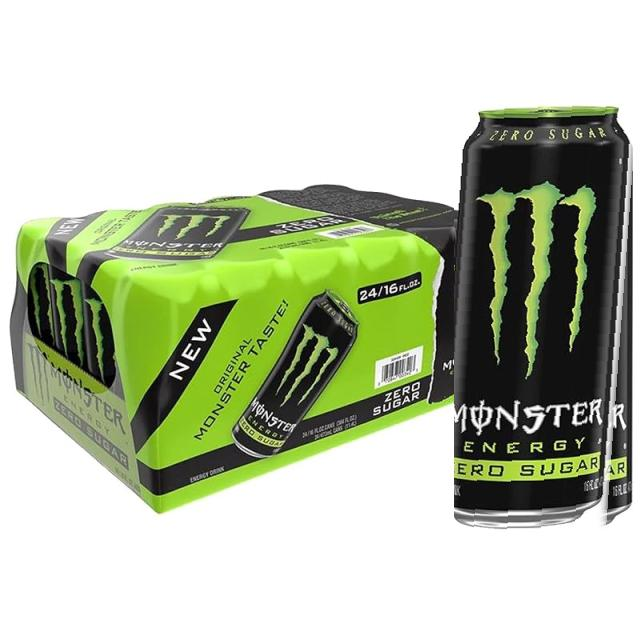Cans: (454, 102, 638, 547), (9, 10, 219, 166)
